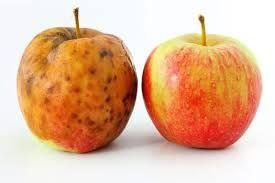Apple: (17, 25, 137, 152), (142, 32, 262, 148)
